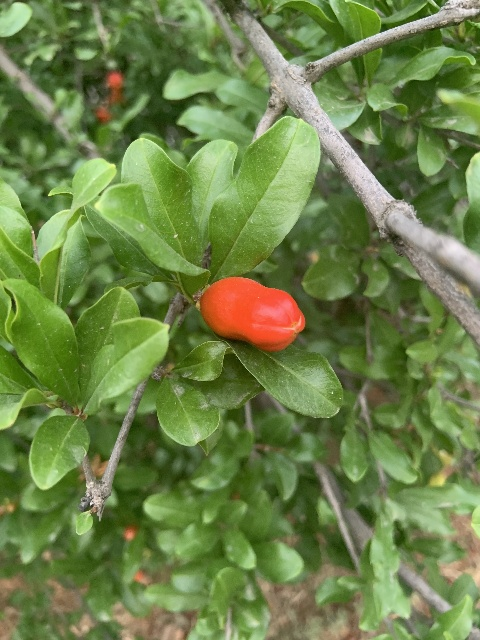bud: (199, 276, 306, 353)
